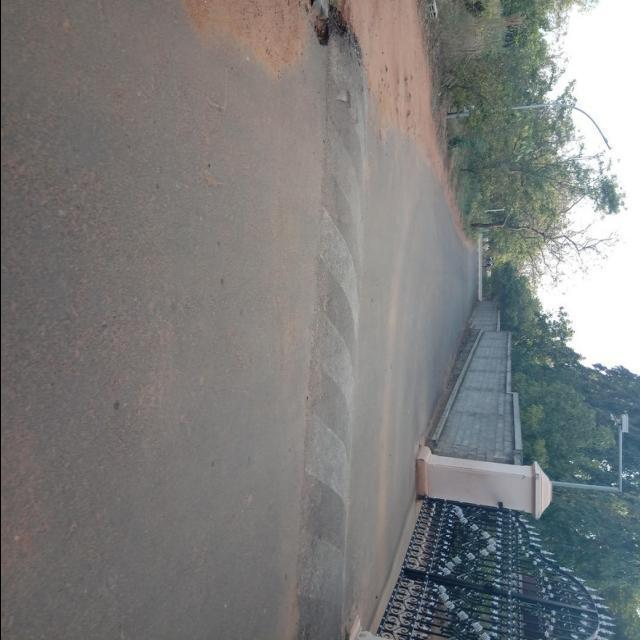speedbreaker: (278, 90, 380, 640)
